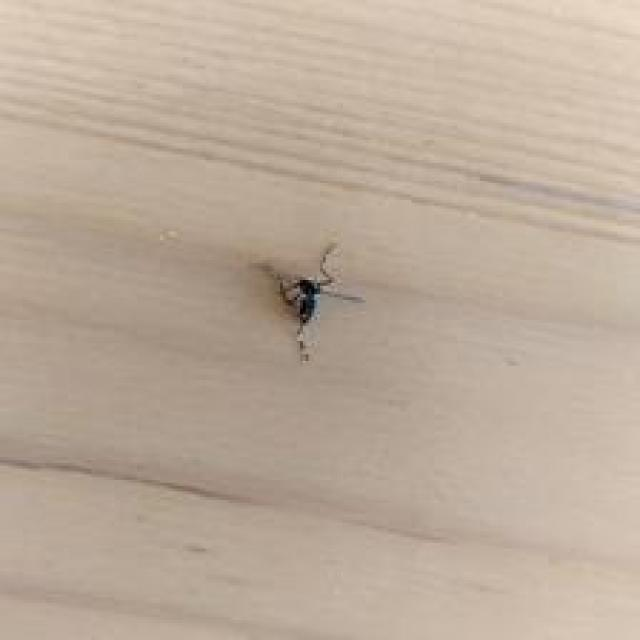Aedes albopictus: (256, 242, 364, 364)
